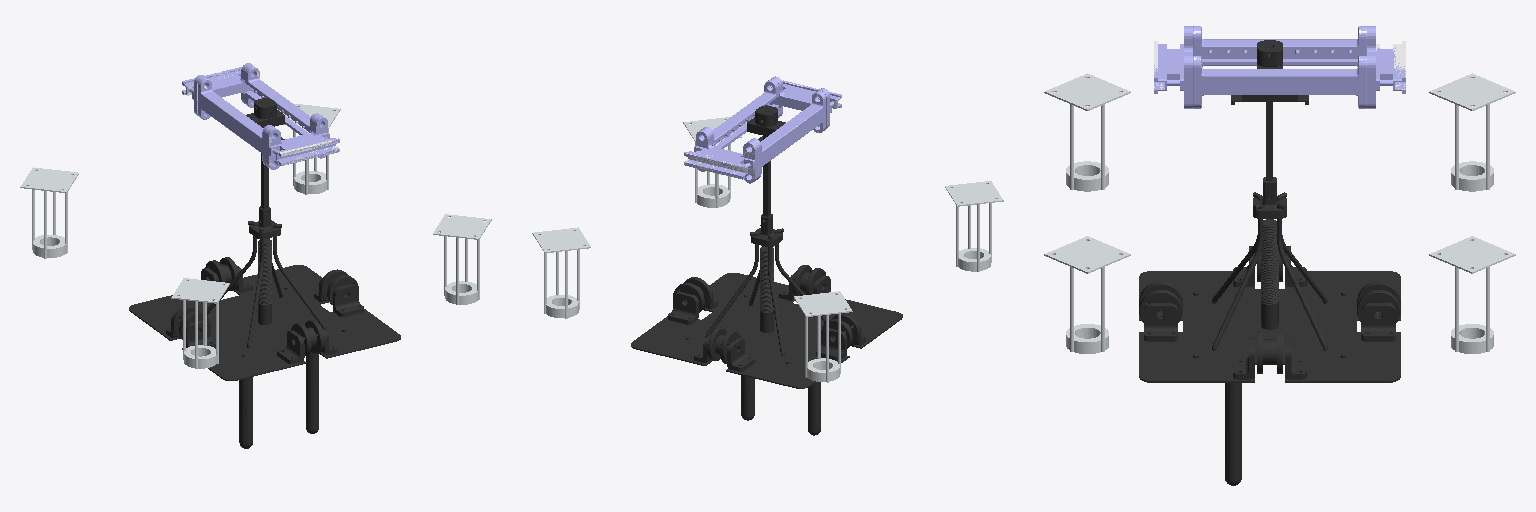
URDF robot description (daughter5):
<?xml version="1.0" encoding="utf-8"?>
<!-- This URDF was automatically created by SolidWorks to URDF Exporter! Originally created by [author] ([email redacted]) 
     Commit Version: 1.5.1-0-g916b5db  Build Version: 1.5.7152.31018
     For more information, please see http://wiki.ros.org/sw_urdf_exporter -->
<robot
  name="daughter5">
  <link
    name="base_link">
    <inertial>
      <origin
        xyz="0.323192234395567 -0.968814529928352 0.691527625574462"
        rpy="0 0 0" />
      <mass
        value="18.1343929242508" />
      <inertia
        ixx="0.122775288901464"
        ixy="2.82019801601975E-05"
        ixz="-2.89671162372037E-07"
        iyy="0.138828303061342"
        iyz="8.06294042676756E-07"
        izz="0.252112439988922" />
    </inertial>
    <visual>
      <origin
        xyz="0 0 0"
        rpy="0 0 0" />
      <geometry>
        <mesh
          filename="package://daughter5/meshes/base_link.STL" />
      </geometry>
      <material
        name="">
        <color
          rgba="0.776470588235294 0.756862745098039 0.737254901960784 1" />
      </material>
    </visual>
    <collision>
      <origin
        xyz="0 0 0"
        rpy="0 0 0" />
      <geometry>
        <mesh
          filename="package://daughter5/meshes/base_link.STL" />
      </geometry>
    </collision>
  </link>
  <link
    name="daughter_mounts">
    <inertial>
      <origin
        xyz="-0.28482 0.047234 0.18037"
        rpy="0 0 0" />
      <mass
        value="0.39734" />
      <inertia
        ixx="0.00019431"
        ixy="-1.4903E-22"
        ixz="1.3553E-20"
        iyy="0.00016614"
        iyz="-3.425E-22"
        izz="0.00019431" />
    </inertial>
    <visual>
      <origin
        xyz="0 0 0"
        rpy="0 0 0" />
      <geometry>
        <mesh
          filename="package://daughter5/meshes/daughter_mounts.STL" />
      </geometry>
      <material
        name="">
        <color
          rgba="0.89804 0.91765 0.92941 1" />
      </material>
    </visual>
    <collision>
      <origin
        xyz="0 0 0"
        rpy="0 0 0" />
      <geometry>
        <mesh
          filename="package://daughter5/meshes/daughter_mounts.STL" />
      </geometry>
    </collision>
  </link>
  <joint
    name="daughter_mounts_joint"
    type="fixed">
    <origin
      xyz="0.561702686926769 -0.826106221612544 0.520809064190048"
      rpy="1.5707963267949 0 0.220867960858711" />
    <parent
      link="base_link" />
    <child
      link="daughter_mounts" />
    <axis
      xyz="0 0 0" />
  </joint>
  <link
    name="x_mechanism">
    <inertial>
      <origin
        xyz="0.0500000000000002 -1.55431223447522E-15 -0.1"
        rpy="0 0 0" />
      <mass
        value="0.361596313280266" />
      <inertia
        ixx="0.00105255016394987"
        ixy="6.12098920903487E-20"
        ixz="-1.49966403210821E-19"
        iyy="0.001138204739837"
        iyz="-7.3899021328892E-19"
        izz="0.000181799273034598" />
    </inertial>
    <visual>
      <origin
        xyz="0 0 0"
        rpy="0 0 0" />
      <geometry>
        <mesh
          filename="package://daughter5/meshes/x_mechanism.STL" />
      </geometry>
      <material
        name="">
        <color
          rgba="0.752941176470588 0.752941176470588 1 1" />
      </material>
    </visual>
    <collision>
      <origin
        xyz="0 0 0"
        rpy="0 0 0" />
      <geometry>
        <mesh
          filename="package://daughter5/meshes/x_mechanism.STL" />
      </geometry>
    </collision>
  </link>
  <joint
    name="x_mechanism_joint"
    type="fixed">
    <origin
      xyz="0.281880541859617 -1.16449456926086 0.773309064190052"
      rpy="1.5707963267949 0 0" />
    <parent
      link="base_link" />
    <child
      link="x_mechanism" />
    <axis
      xyz="0 0 0" />
  </joint>
  <link
    name="y_mechanism">
    <inertial>
      <origin
        xyz="4.44089209850063E-16 1.4432899320127E-15 -0.0300000000000001"
        rpy="0 0 0" />
      <mass
        value="0.361596313280266" />
      <inertia
        ixx="0.000181799273034598"
        ixy="7.3263292503533E-19"
        ixz="1.51069672341954E-19"
        iyy="0.001138204739837"
        iyz="6.09010933850894E-20"
        izz="0.00105255016394987" />
    </inertial>
    <visual>
      <origin
        xyz="0 0 0"
        rpy="0 0 0" />
      <geometry>
        <mesh
          filename="package://daughter5/meshes/y_mechanism.STL" />
      </geometry>
      <material
        name="">
        <color
          rgba="1 1 1 1" />
      </material>
    </visual>
    <collision>
      <origin
        xyz="0 0 0"
        rpy="0 0 0" />
      <geometry>
        <mesh
          filename="package://daughter5/meshes/y_mechanism.STL" />
      </geometry>
    </collision>
  </link>
  <joint
    name="y_mechanism_joint"
    type="fixed">
    <origin
      xyz="0.0800000000000001 0 -0.1"
      rpy="0 1.5707963267949 0" />
    <parent
      link="x_mechanism" />
    <child
      link="y_mechanism" />
    <axis
      xyz="0 0 0" />
  </joint>
  <link
    name="z_mechanism">
    <inertial>
      <origin
        xyz="-0.000889210725263156 0.304486025518739 8.83599374112976E-07"
        rpy="0 0 0" />
      <mass
        value="2.02114034695291" />
      <inertia
        ixx="0.00286486578798849"
        ixy="-3.50848036741384E-09"
        ixz="-5.88725255370192E-09"
        iyy="0.0047111286894569"
        iyz="2.6746451858684E-09"
        izz="0.00286442096739907" />
    </inertial>
    <visual>
      <origin
        xyz="0 0 0"
        rpy="0 0 0" />
      <geometry>
        <mesh
          filename="package://daughter5/meshes/z_mechanism.STL" />
      </geometry>
      <material
        name="">
        <color
          rgba="0.250980392156863 0.250980392156863 0.250980392156863 1" />
      </material>
    </visual>
    <collision>
      <origin
        xyz="0 0 0"
        rpy="0 0 0" />
      <geometry>
        <mesh
          filename="package://daughter5/meshes/z_mechanism.STL" />
      </geometry>
    </collision>
  </link>
  <joint
    name="z_mechanism_joint"
    type="fixed">
    <origin
      xyz="-0.0115122360355437 0.0274999999999997 -0.03"
      rpy="3.14159265358979 0 0" />
    <parent
      link="y_mechanism" />
    <child
      link="z_mechanism" />
    <axis
      xyz="0 0 0" />
  </joint>
  <link
    name="end_effector">
    <inertial>
      <origin
        xyz="0.0842524173709407 0.108521400416605 0.168960831222487"
        rpy="0 0 0" />
      <mass
        value="6.13346764843363" />
      <inertia
        ixx="0.00969440905669386"
        ixy="3.31495046609323E-06"
        ixz="-5.29990975031473E-07"
        iyy="0.101623549882704"
        iyz="-0.000739163904931415"
        izz="0.0986462091189388" />
    </inertial>
    <visual>
      <origin
        xyz="0 0 0"
        rpy="0 0 0" />
      <geometry>
        <mesh
          filename="package://daughter5/meshes/end_effector.STL" />
      </geometry>
      <material
        name="">
        <color
          rgba="0.752941176470588 0.752941176470588 0.752941176470588 1" />
      </material>
    </visual>
    <collision>
      <origin
        xyz="0 0 0"
        rpy="0 0 0" />
      <geometry>
        <mesh
          filename="package://daughter5/meshes/end_effector.STL" />
      </geometry>
    </collision>
  </link>
  <joint
    name="end_effector_joint"
    type="fixed">
    <origin
      xyz="-0.000168657552571005 0.57236728950559 0.0847280666359679"
      rpy="3.14159265358979 1.5707963267949 0" />
    <parent
      link="z_mechanism" />
    <child
      link="end_effector" />
    <axis
      xyz="0 0 0" />
  </joint>
</robot>

--- What the picture shows (computed from the rendered views, not written in the file) ---
3 views of the same robot in one strip: view 1: azimuth 30°, elevation 25°; view 2: azimuth 150°, elevation 25°; view 3: azimuth 270°, elevation 25° (orthographic).
Robot: daughter5 — 6 links, 5 joints (5 fixed); root link base_link; default pose: every joint at zero.
Links seen in each view (by area): view 1: z_mechanism, daughter_mounts, x_mechanism; view 2: z_mechanism, daughter_mounts, x_mechanism; view 3: z_mechanism, daughter_mounts, x_mechanism, y_mechanism.
Link boxes in pixels (box(x1,y1,x2,y2)): z_mechanism: box(129, 98, 400, 448); daughter_mounts: box(20, 104, 491, 368); x_mechanism: box(182, 63, 339, 169); z_mechanism: box(631, 105, 902, 435); daughter_mounts: box(532, 117, 1003, 382); x_mechanism: box(684, 76, 841, 183); z_mechanism: box(1139, 40, 1400, 485); daughter_mounts: box(1044, 73, 1515, 353); x_mechanism: box(1154, 26, 1405, 108); y_mechanism: box(1154, 27, 1405, 108).
Size in the robot's own frame: 0.5404 by 0.5404 by 0.535 metres.
4 mesh visuals loaded from 6 distinct referenced files (4 binary STL); not drawn: 2 (reference not matched to a file when rendering).
